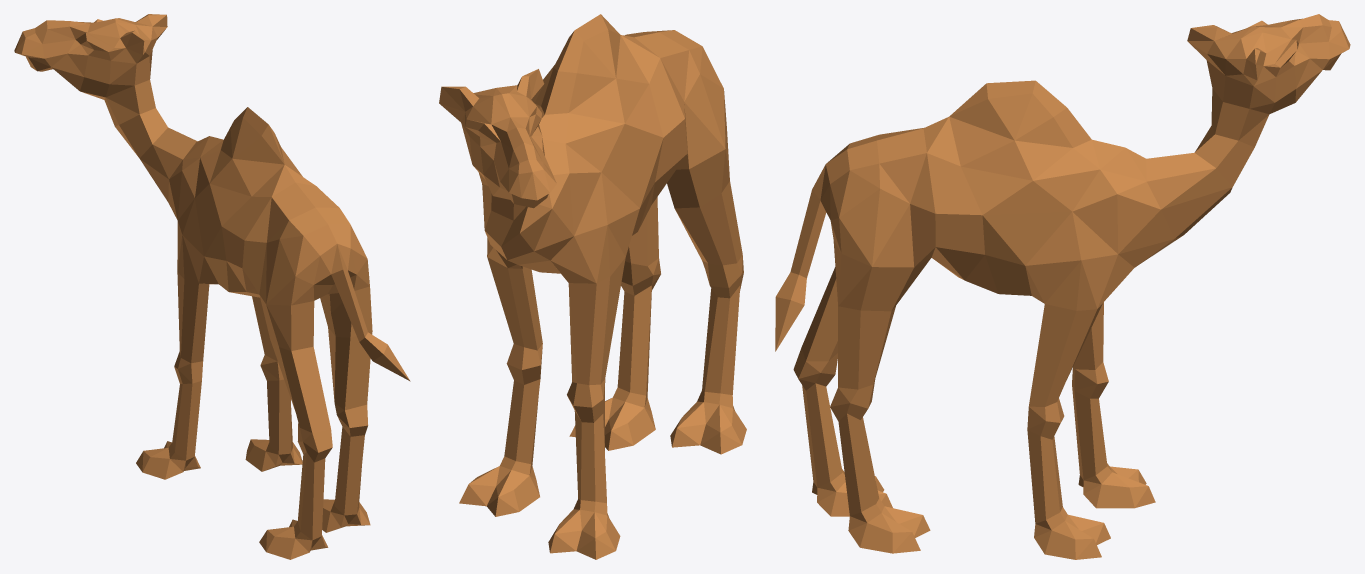
Rendered from camelA.FBX.
The picture shows the model from 3 angles, left to right: view 1: azimuth 30°, elevation 25°; view 2: azimuth 150°, elevation 25°; view 3: azimuth 270°, elevation 25°; orthographic projection. The views are drawn at different scales.
Parts seen in each view (by area): view 1: camelA; view 2: camelA; view 3: camelA.
Boxes of the visible parts, x1,y1,x2,y2 form: camelA: (14, 14, 410, 559); camelA: (439, 14, 746, 559); camelA: (775, 14, 1350, 559).
Bounding box in the file's own units: 0.2922 × 0.641 × 0.7065.
